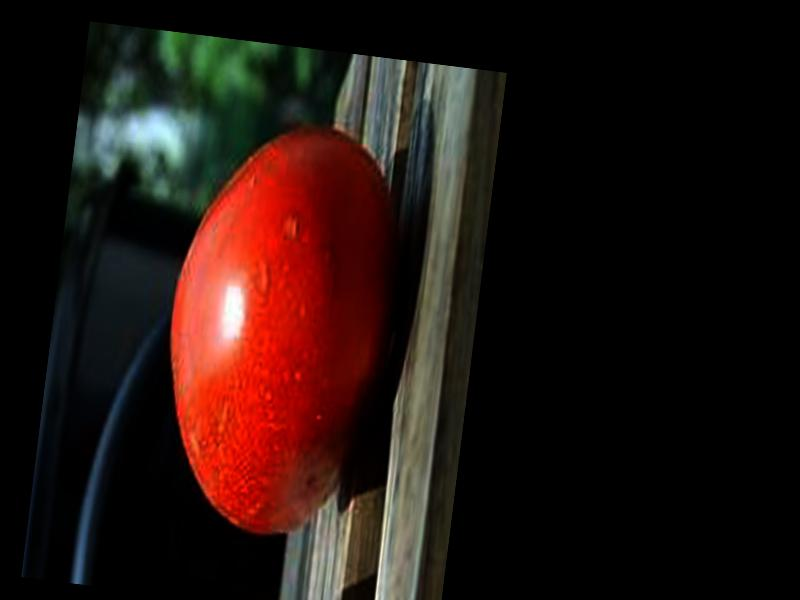Tomato: (145, 110, 413, 546)
